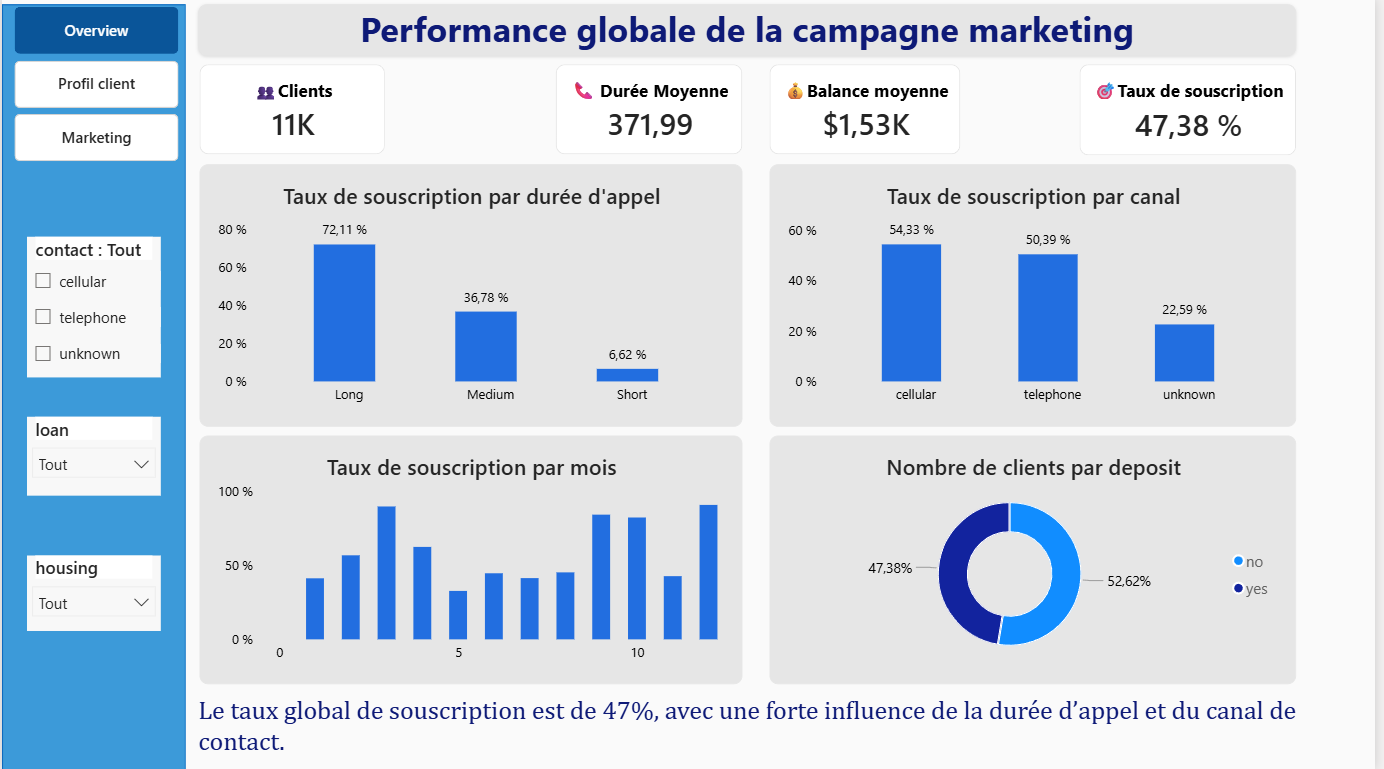

This screenshot's page, from the dashboard's own definition file:
{"tool":"powerbi","page":{"name":"Overview","canvas":[1280,720],"ordinal":0},"visuals":[{"type":"shape","box":[0,5.4,171.5,714.6],"z":0},{"type":"cardVisual","fields":{"Data":["_mesures.Nb Clients"]},"box":[183.8,61.9,173.8,84.6],"z":1000},{"type":"cardVisual","fields":{"Data":["_mesures.Balance moyenne"]},"box":[716.4,61.6,178.6,84.9],"z":2000},{"type":"clusteredColumnChart","title":"Taux de souscription par mois","fields":{"Y":["_mesures.Taux Souscription"],"Category":["bank.Month Order"]},"box":[184.3,408.6,506.5,232.3],"z":3000},{"type":"clusteredColumnChart","title":"Taux de souscription par canal","fields":{"Y":["_mesures.Taux Souscription"],"Category":["bank.contact"]},"box":[716.4,154.5,491.3,244.7],"z":4000},{"type":"cardVisual","fields":{"Data":["_mesures.Taux Souscription"]},"box":[1004.9,61.3,202.7,85.1],"z":5000},{"type":"donutChart","title":"Nombre de clients par deposit","fields":{"Y":["_mesures.Nb Clients"],"Category":["bank.deposit"]},"box":[716.4,408.2,491.3,232.2],"z":6000},{"type":"clusteredColumnChart","title":"Taux de souscription par durée d''appel","fields":{"Y":["_mesures.Taux Souscription"],"Category":["bank.Duration Segment"]},"box":[184,154.5,506.5,244.7],"z":7000},{"type":"cardVisual","fields":{"Data":["_mesures.Durée Moyenne"]},"box":[516.3,61.6,174.2,84.9],"z":8000},{"type":"slicer","fields":{"Values":["bank.contact"]},"box":[23.7,222.9,124.6,131],"z":9000},{"type":"slicer","fields":{"Values":["bank.loan"]},"box":[23.7,390.3,124.6,73.7],"z":10000},{"type":"slicer","fields":{"Values":["bank.housing"]},"box":[23.7,520.4,124.6,70],"z":11000},{"type":"textbox","box":[183.1,649.4,1024.5,63.4],"z":12000},{"type":"textbox","box":[183.5,5.3,1024.1,47.9],"z":13000},{"type":"pageNavigator","box":[11.8,8.2,153.7,146.5],"z":14000}]}

Visuals, with their boxes on the page's 1280x720 design canvas (x1, y1, x2, y2). These are canvas units, not pixel positions in the 1384x769 screenshot, which may show the page scaled, cropped or inside an application window:
shape: locate(0, 5, 172, 720)
cardVisual - _mesures.Nb Clients: locate(184, 62, 358, 146)
cardVisual - _mesures.Balance moyenne: locate(716, 62, 895, 146)
"Taux de souscription par mois" clusteredColumnChart: locate(184, 409, 691, 641)
"Taux de souscription par canal" clusteredColumnChart: locate(716, 154, 1208, 399)
cardVisual - _mesures.Taux Souscription: locate(1005, 61, 1208, 146)
"Nombre de clients par deposit" donutChart: locate(716, 408, 1208, 640)
"Taux de souscription par durée d''appel" clusteredColumnChart: locate(184, 154, 690, 399)
cardVisual - _mesures.Durée Moyenne: locate(516, 62, 690, 146)
slicer - bank.contact: locate(24, 223, 148, 354)
slicer - bank.loan: locate(24, 390, 148, 464)
slicer - bank.housing: locate(24, 520, 148, 590)
textbox: locate(183, 649, 1208, 713)
textbox: locate(184, 5, 1208, 53)
pageNavigator: locate(12, 8, 166, 155)
